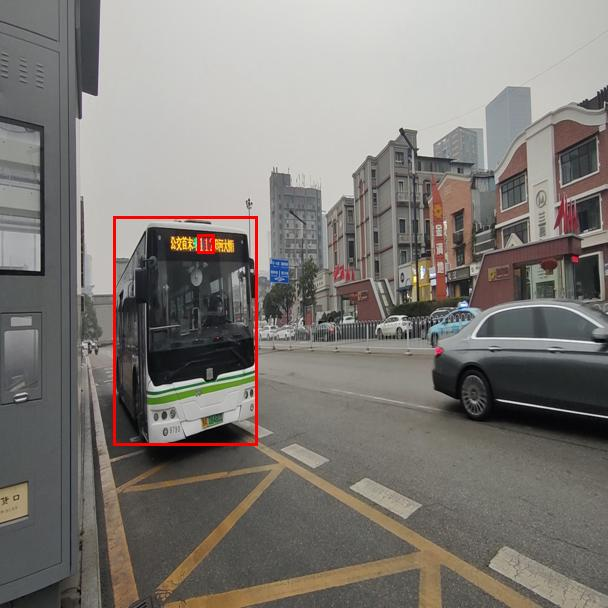bus: (113, 216, 257, 445)
screen: (197, 234, 214, 253)
